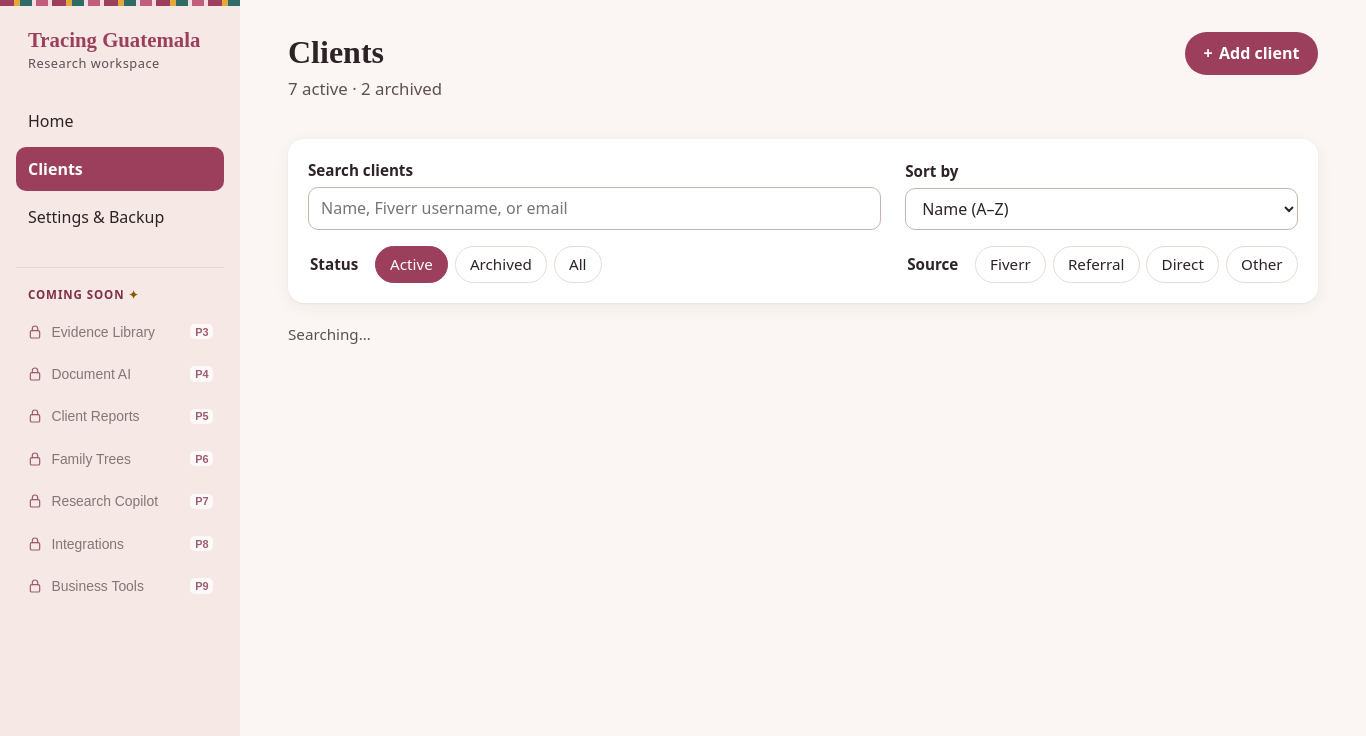
Scenario: add and edit client › blocks saving without required fields and lists what to fix
This screenshot has width=1366, height=736.
Click the link "+ Add client": click(1251, 53) [1185,32,1318,75]
(page scrolled)
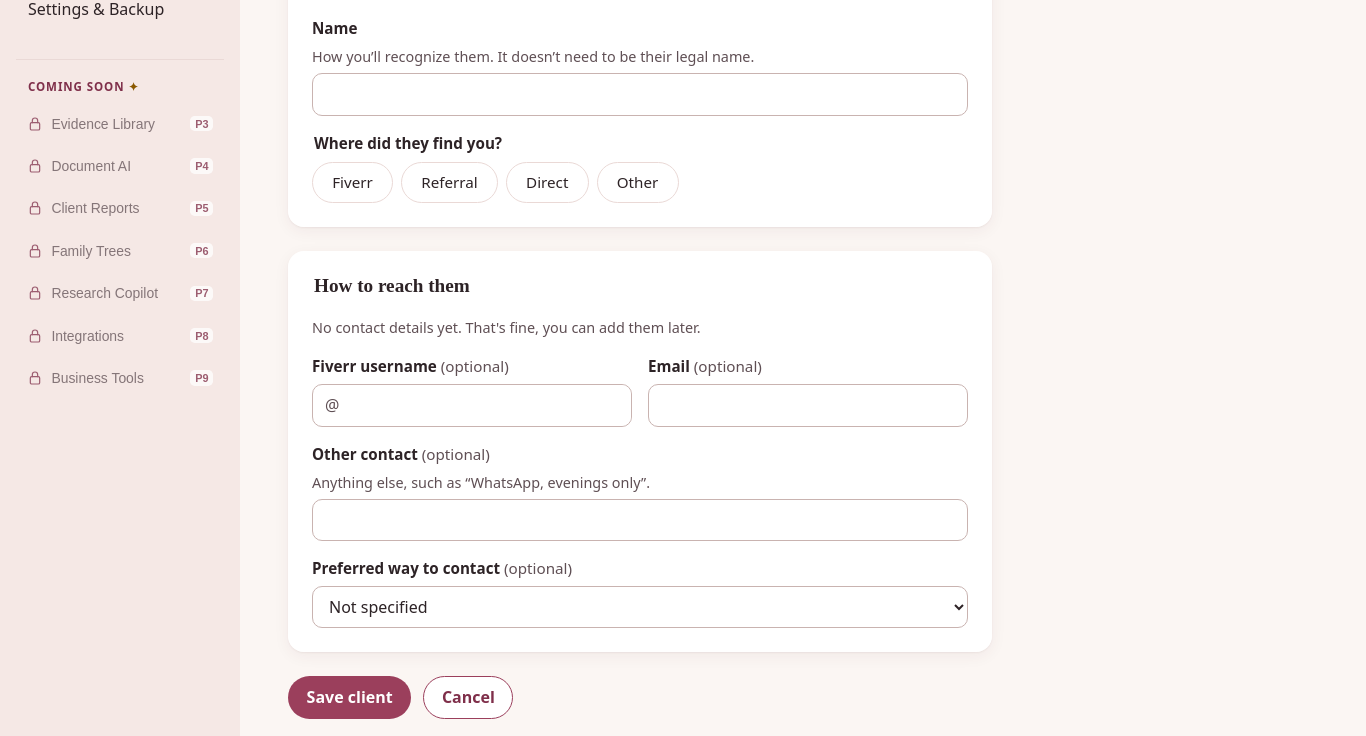
Click the button "Save client": click(350, 697) [288,676,411,719]
(page scrolled)
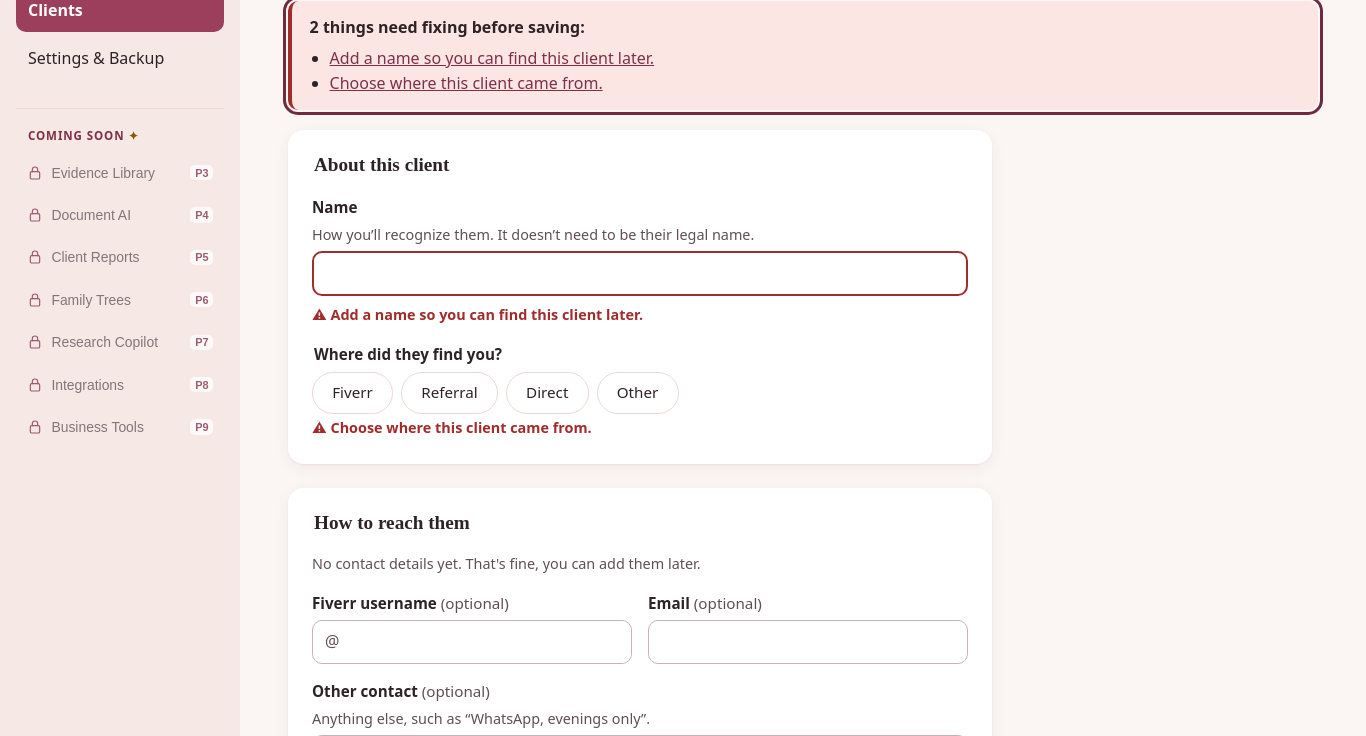
Expected: the link "Add a name so you can find this client later." is shown, [330,47,654,69]
Expected: the link "Choose where this client came from." is shown, [330,72,603,94]
